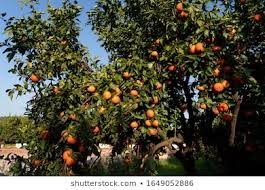orange: (214, 82, 224, 94), (103, 89, 113, 100)
